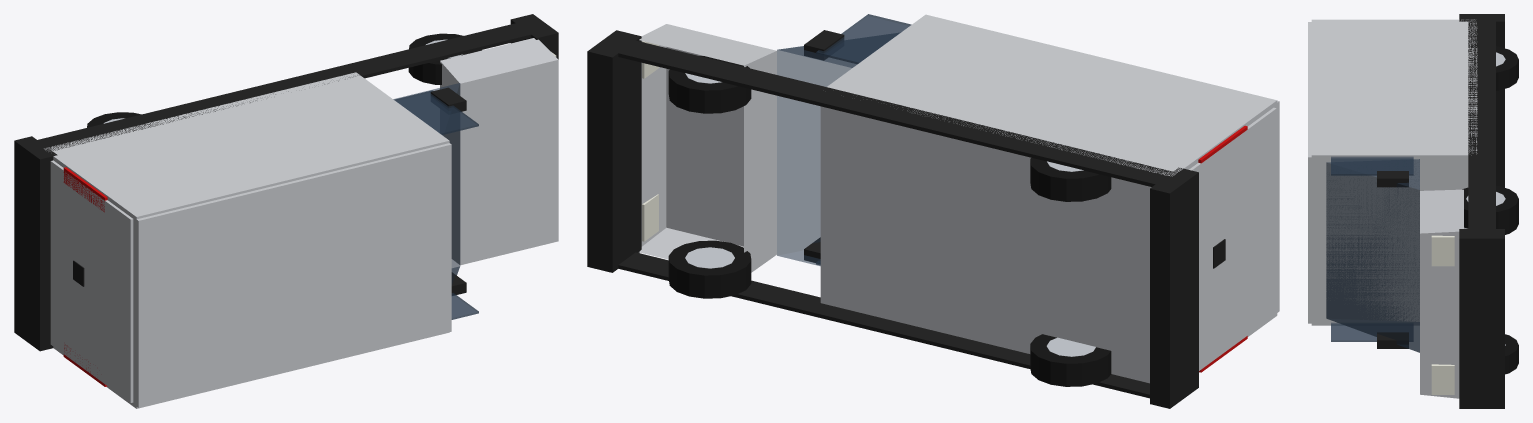
The model's file is Furgoneta_Reparto.obj.
3 renders of one model, left to right at view 1: azimuth 30°, elevation 25°; view 2: azimuth 150°, elevation 25°; view 3: azimuth 270°, elevation 25°, orthographic. The views are drawn at different scales.
Parts seen in each view (by area): view 1: Van_Roof, Cargo_Box, Van_Hood, Rear_Cargo_Doors, Bumper_Rear, Side_Moldings, Side_Windows, Windshield, Wheel_FR, Bumper_Front, Lights_Rear, Mirrors; view 2: Cargo_Box, Van_Hood, Side_Moldings, Rear_Cargo_Doors, Bumper_Front, Bumper_Rear, Windshield, Wheel_FL, Wheel_RL, Wheel_FR, Wheel_RR, Side_Windows (+3 smaller); view 3: Cargo_Box, Windshield, Bumper_Front, Van_Hood, Side_Moldings, Side_Windows, Lights_Front, Bumper_Rear, Van_Roof, Mirrors, Wheel_FR, Wheel_RR (+1 smaller).
Boxes of the visible parts, x1=… form: Van_Roof: x1=136, y1=143, x2=451, y2=407; Cargo_Box: x1=44, y1=72, x2=449, y2=408; Van_Hood: x1=440, y1=38, x2=558, y2=265; Rear_Cargo_Doors: x1=50, y1=160, x2=133, y2=402; Bumper_Rear: x1=14, y1=136, x2=57, y2=351; Side_Moldings: x1=37, y1=23, x2=531, y2=150; Side_Windows: x1=394, y1=90, x2=478, y2=319; Windshield: x1=393, y1=83, x2=460, y2=284; Wheel_FR: x1=408, y1=33, x2=481, y2=84; Bumper_Front: x1=510, y1=14, x2=558, y2=59; Lights_Rear: x1=63, y1=167, x2=107, y2=386; Mirrors: x1=430, y1=87, x2=466, y2=295; Cargo_Box: x1=820, y1=14, x2=1277, y2=383; Van_Hood: x1=639, y1=24, x2=776, y2=272; Side_Moldings: x1=618, y1=40, x2=1172, y2=398; Rear_Cargo_Doors: x1=1189, y1=107, x2=1276, y2=370; Bumper_Front: x1=587, y1=30, x2=641, y2=272; Bumper_Rear: x1=1150, y1=167, x2=1198, y2=408; Windshield: x1=777, y1=33, x2=898, y2=265; Wheel_FL: x1=668, y1=240, x2=751, y2=298; Wheel_RL: x1=1030, y1=334, x2=1111, y2=386; Wheel_FR: x1=668, y1=56, x2=751, y2=113; Wheel_RR: x1=1030, y1=158, x2=1111, y2=201; Side_Windows: x1=816, y1=14, x2=911, y2=264; Cargo_Box: x1=1311, y1=19, x2=1477, y2=325; Windshield: x1=1326, y1=159, x2=1419, y2=352; Bumper_Front: x1=1459, y1=229, x2=1504, y2=408; Van_Hood: x1=1420, y1=189, x2=1463, y2=398; Side_Moldings: x1=1468, y1=21, x2=1495, y2=228; Side_Windows: x1=1331, y1=156, x2=1413, y2=341; Lights_Front: x1=1431, y1=235, x2=1454, y2=394; Bumper_Rear: x1=1459, y1=14, x2=1504, y2=187; Van_Roof: x1=1308, y1=22, x2=1311, y2=323; Mirrors: x1=1377, y1=171, x2=1408, y2=348; Wheel_FR: x1=1462, y1=186, x2=1518, y2=228; Wheel_RR: x1=1496, y1=46, x2=1518, y2=90.
Size of the model in its own units: 580 by 205 by 230.
